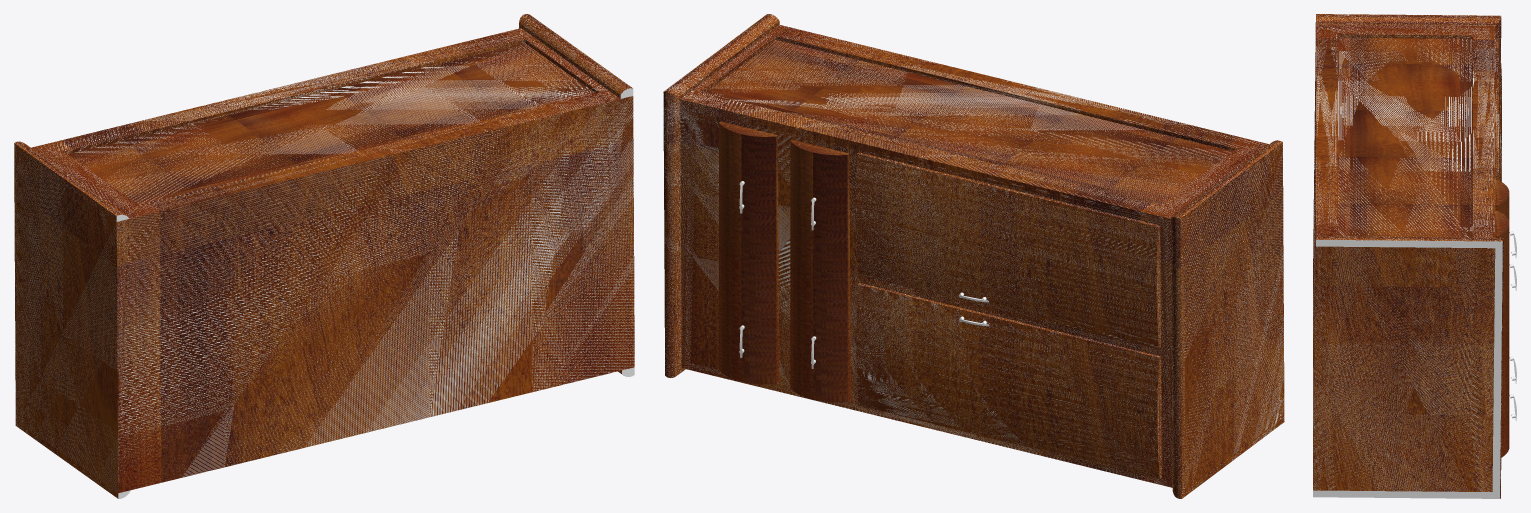
The picture shows the model from 3 angles, left to right: view 1: azimuth 30°, elevation 25°; view 2: azimuth 150°, elevation 25°; view 3: azimuth 270°, elevation 25°; orthographic projection. The views are drawn at different scales.
Visible parts, largest first — view 1: mesh4_mesh4-geometry; view 2: mesh4_mesh4-geometry, mesh1_mesh1-geometry; view 3: mesh4_mesh4-geometry, mesh1_mesh1-geometry.
Boxes of the visible parts, bbox=[...] form: mesh4_mesh4-geometry: bbox=[14, 14, 634, 498]; mesh4_mesh4-geometry: bbox=[663, 14, 1284, 498]; mesh1_mesh1-geometry: bbox=[719, 121, 850, 402]; mesh4_mesh4-geometry: bbox=[1313, 14, 1503, 498]; mesh1_mesh1-geometry: bbox=[1495, 180, 1509, 457].
Bounding box in the file's own units: 0.8364 × 0.4473 × 0.3169.
